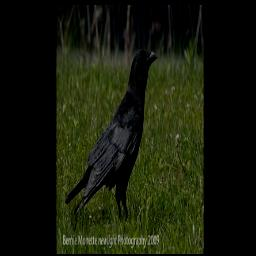Crow: (64, 48, 158, 225)
